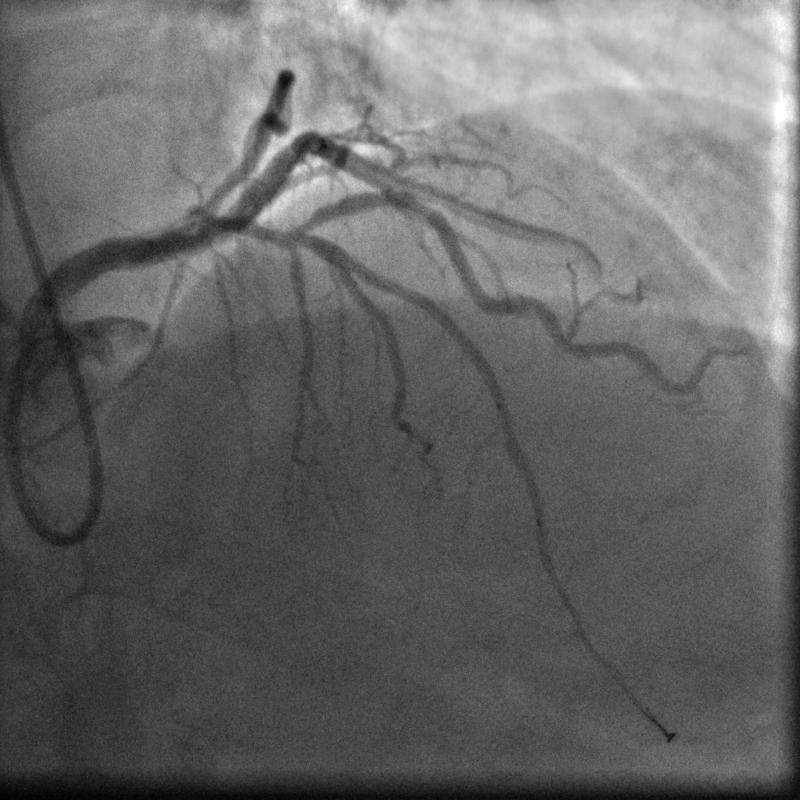Stenosis: (404, 186, 438, 227)
